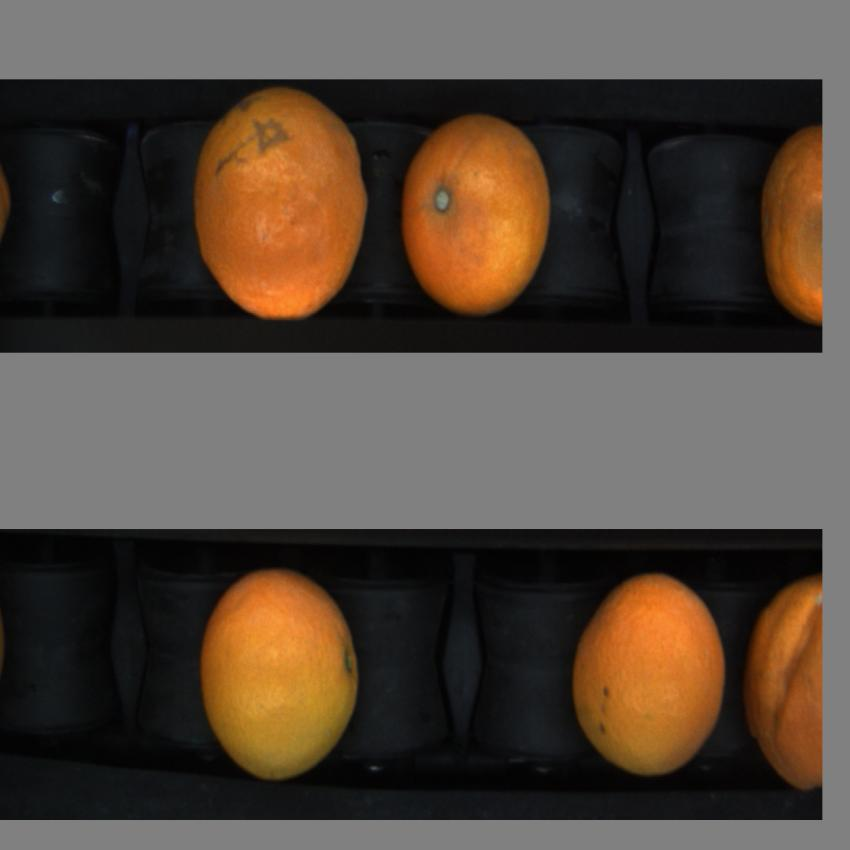Buen estado: (192, 82, 372, 345), (196, 559, 364, 795), (394, 102, 559, 338), (566, 564, 729, 794), (742, 573, 824, 804)
Mal estado: (750, 115, 824, 334)
